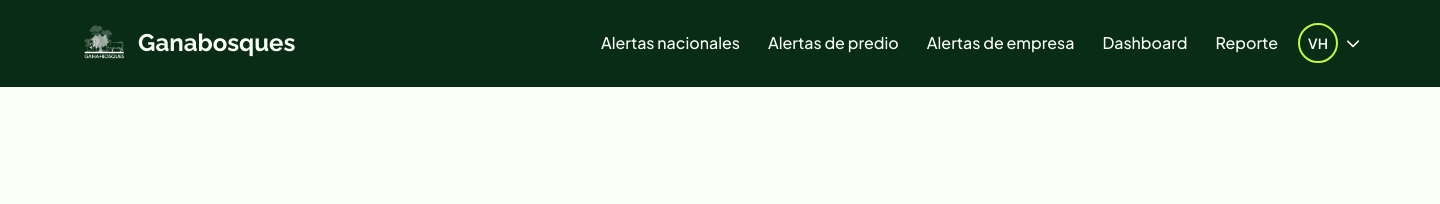
Scenario: Header › user dropdown › shows the name and email when opened
Click the button "VH": (1329, 43) [1298,23,1360,63]
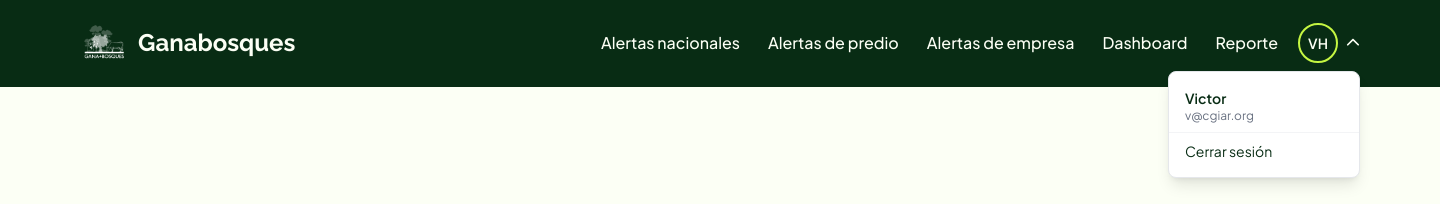
Expected: the text "Victor" is shown, [1185,89,1226,107]
Expected: the text "v@cgiar.org" is shown, [1185,108,1254,123]
